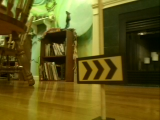right: (76, 56, 123, 82)
